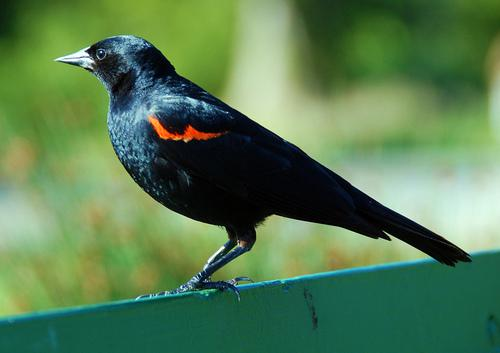010.Red_winged_Blackbird: (51, 33, 473, 302)
